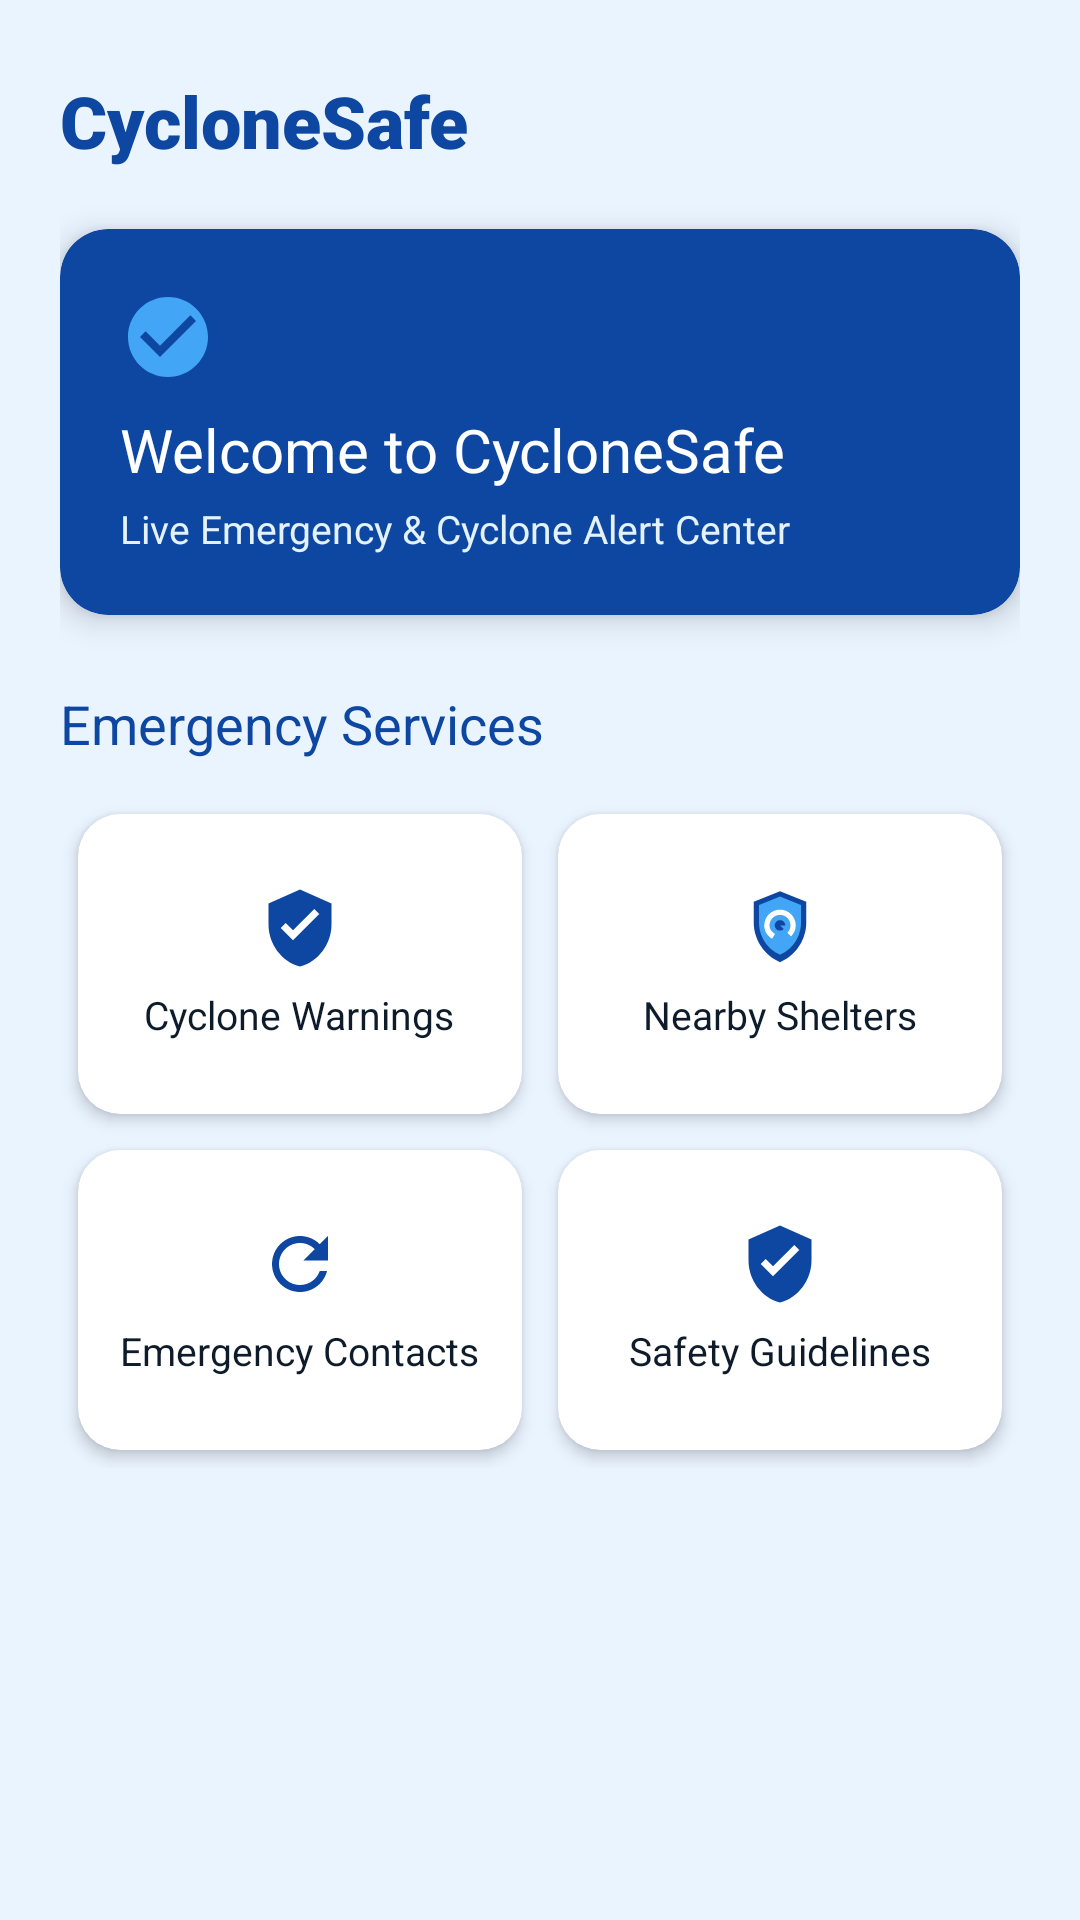

Screen size 1080 x 1920. Icon name, then its box in pixels as (x1, y1, x2, y2):
check circle: (128, 297, 208, 377)
